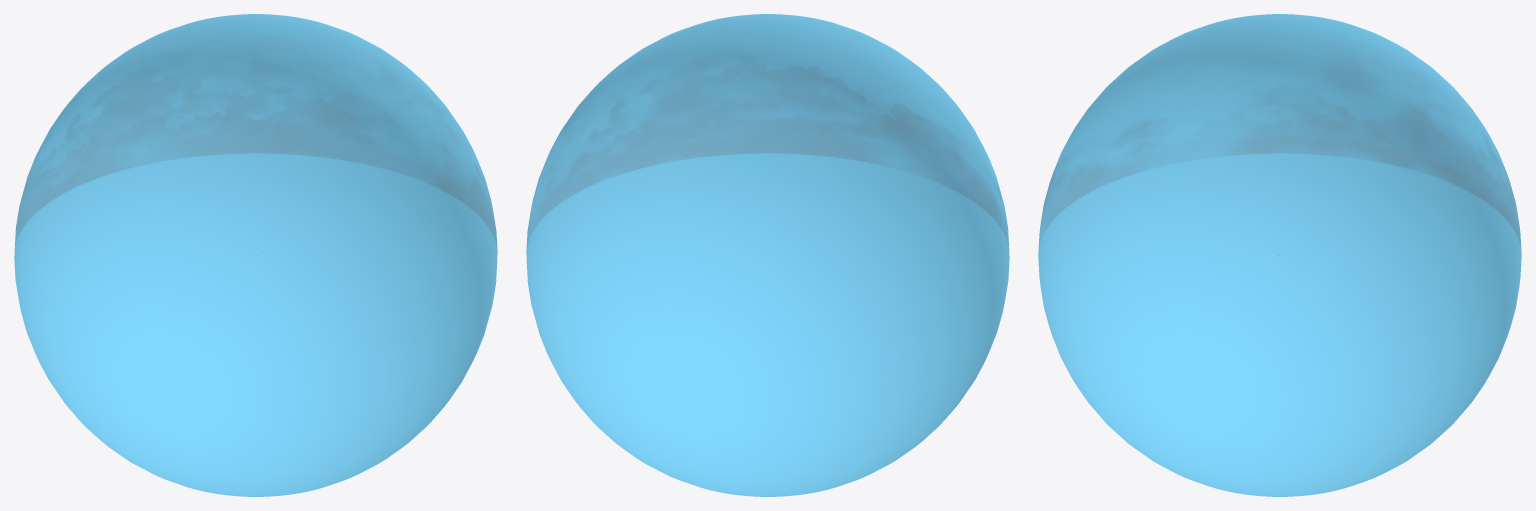
The model's file is Demo.glb.
3 views of the same model, side by side, from view 1: azimuth 30°, elevation 25°; view 2: azimuth 150°, elevation 25°; view 3: azimuth 270°, elevation 25° (orthographic).
Parts seen in each view (by area): view 1: SkySphereMesh; view 2: SkySphereMesh; view 3: SkySphereMesh.
Boxes of the visible parts, <box> form: SkySphereMesh: <box>14,14,497,496</box>; SkySphereMesh: <box>526,14,1009,496</box>; SkySphereMesh: <box>1038,14,1521,496</box>.
Bounding box in the file's own units: 32768 × 32768 × 32768.
3 materials, 2 textured.
